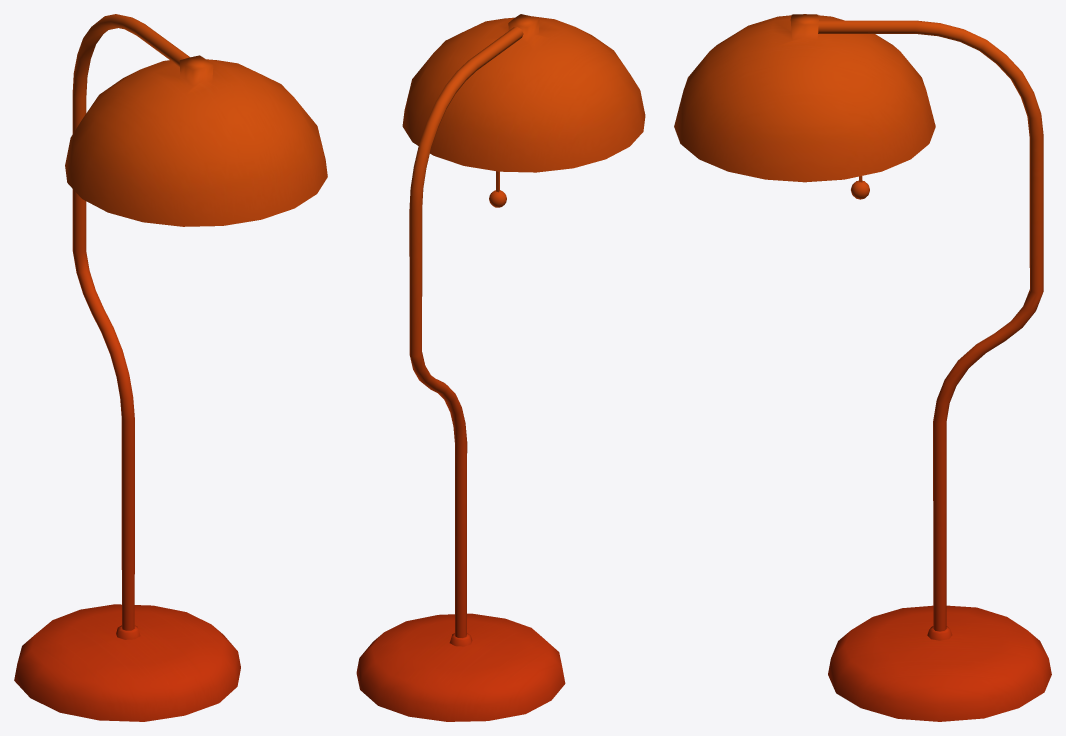
The model's file is floorlamp.fbx.
3 views of the same model, side by side, from view 1: azimuth 30°, elevation 25°; view 2: azimuth 150°, elevation 25°; view 3: azimuth 270°, elevation 25° (orthographic). The views are drawn at different scales.
Parts seen in each view (by area): view 1: floorlamp; view 2: floorlamp; view 3: floorlamp.
Boxes of the visible parts, box(x1,y1,x2,y2) form: floorlamp: box(14, 14, 327, 721); floorlamp: box(356, 14, 645, 721); floorlamp: box(674, 14, 1051, 721).
Bounding box in the file's own units: 1.83 × 5.06 × 2.64.
